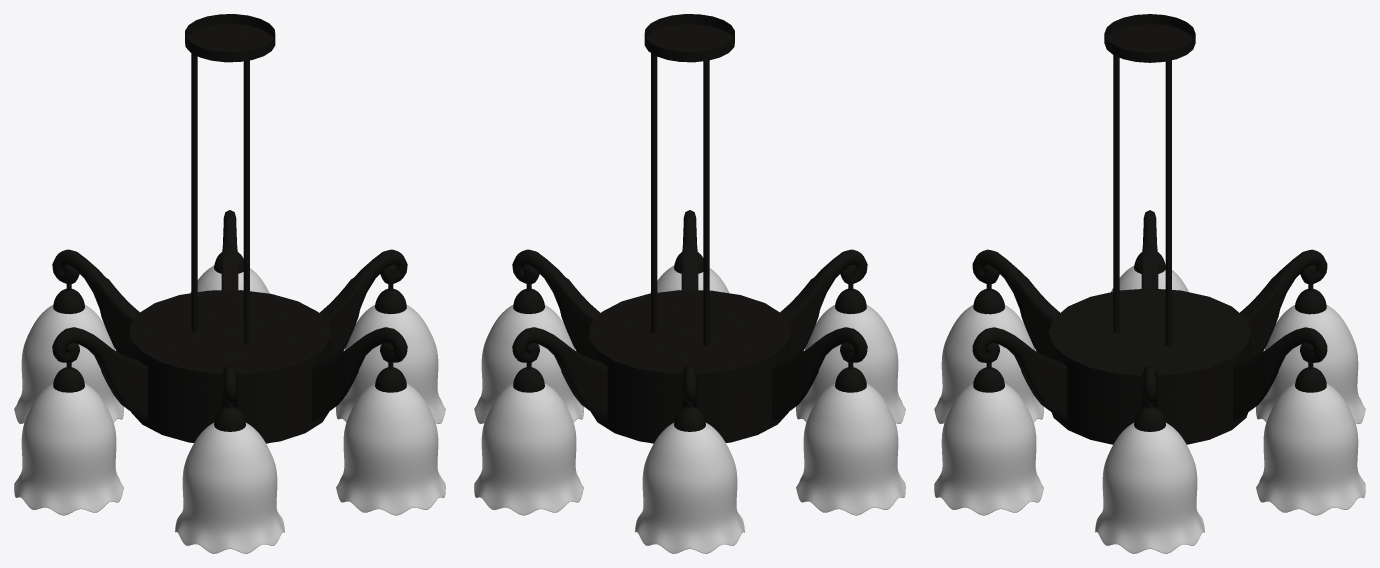
Rendered from SM_Chandelier_1.fbx.
3 renders of one model, left to right at view 1: azimuth 30°, elevation 25°; view 2: azimuth 150°, elevation 25°; view 3: azimuth 270°, elevation 25°, orthographic.
Parts seen in each view (by area): view 1: SM_Chandelier_1; view 2: SM_Chandelier_1; view 3: SM_Chandelier_1.
Part boxes in pixels (x1,y1,x2,y2): SM_Chandelier_1: [14, 14, 445, 553]; SM_Chandelier_1: [474, 14, 905, 553]; SM_Chandelier_1: [934, 14, 1365, 553].
Size of the model in its own units: 158 by 142 by 152.
Materials: 2 (1 with a texture image).
